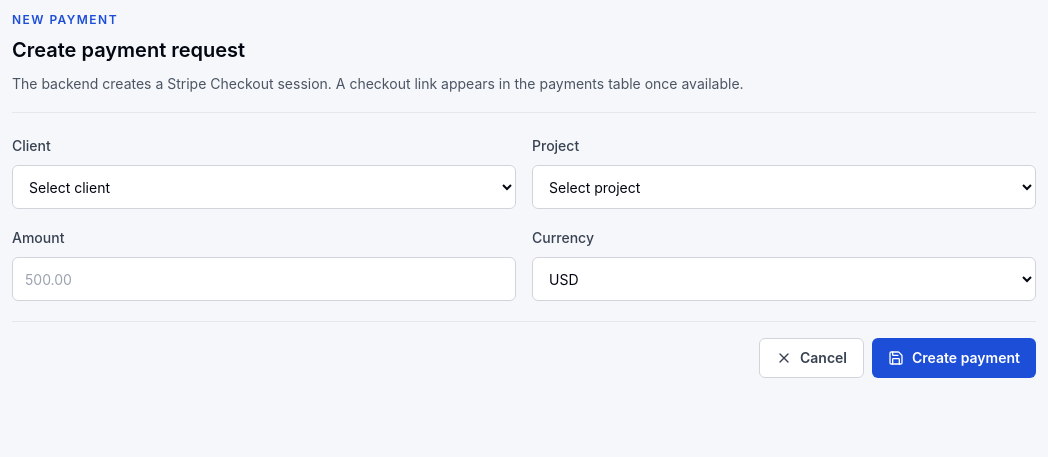
Test case: PaymentForm › displays API error from a rejected submit
The width and height of the screenshot is (1048, 457).
Select "client_one #100" in the dropdown labelled "Client" at (264, 187), box [12,165,516,209]
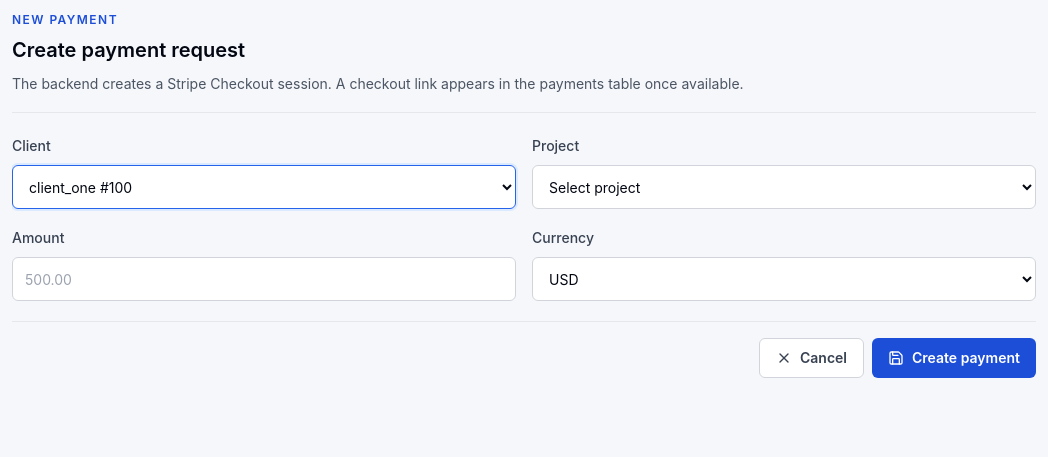
Select "Lakeview Renovation #10" in the dropdown labelled "Project" at (784, 187), box [532,165,1036,209]
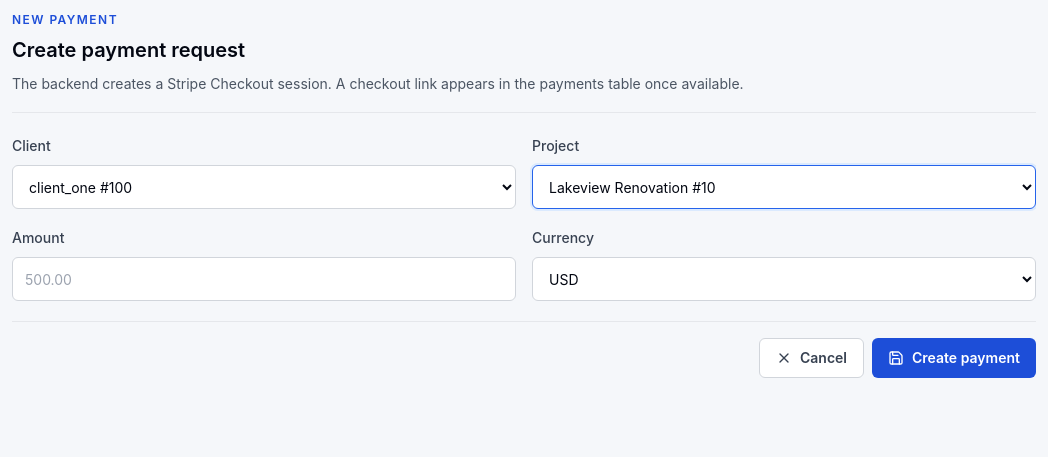
Type "500" into the field labelled "Amount" at (264, 279), box [12,257,516,301]
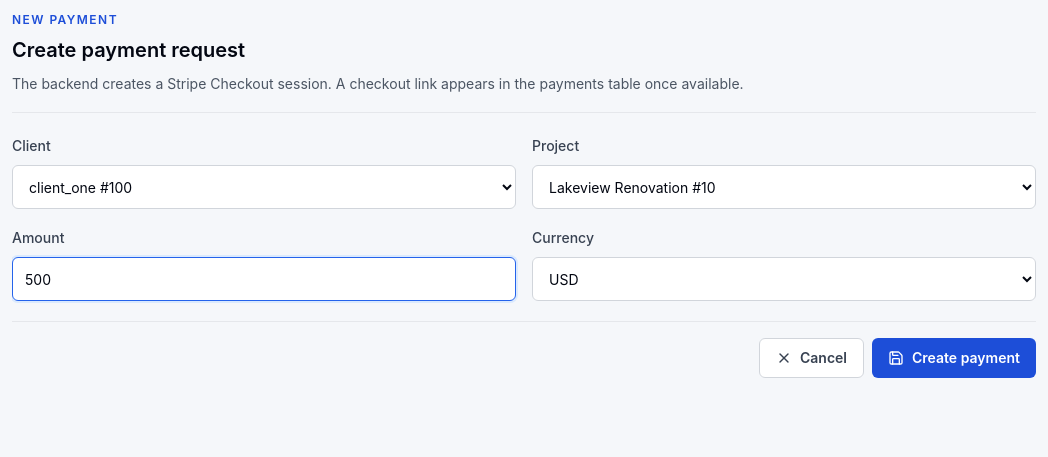
Click the button "Create payment" at (954, 358), box [872,338,1036,378]
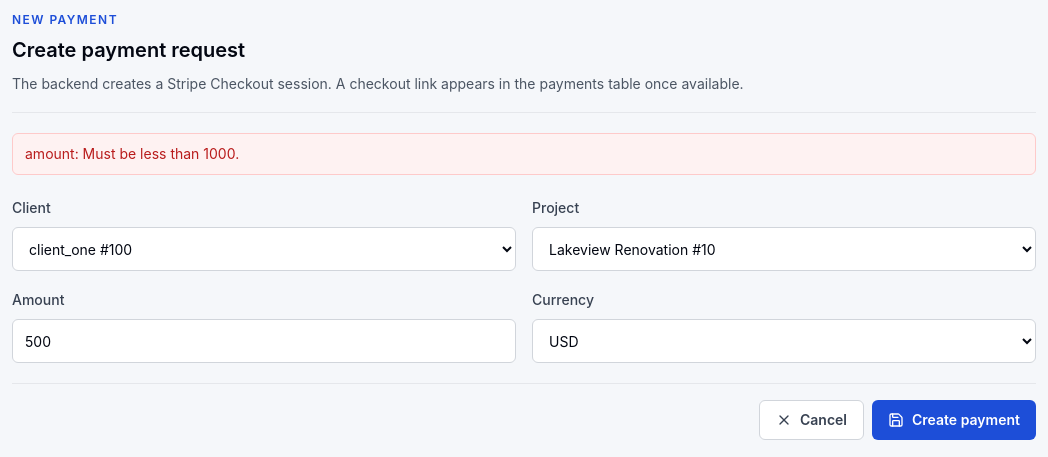
Result: the text "amount: Must be less than 1000." is shown at [12,133,1036,175]
